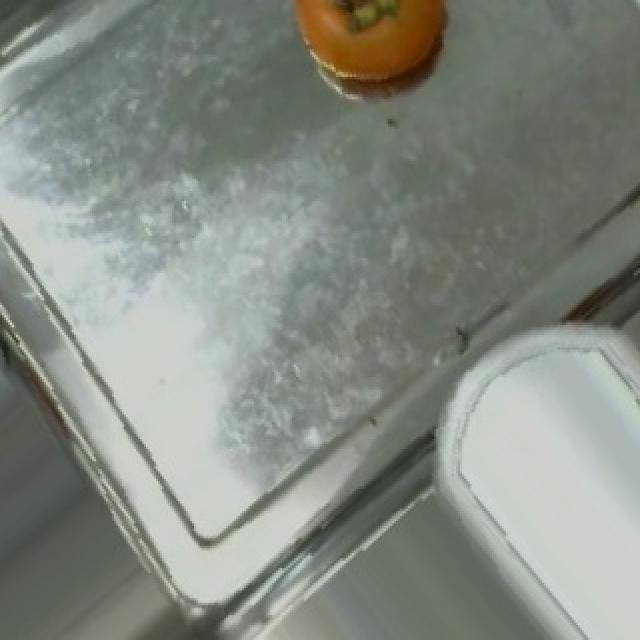Fruit: (264, 0, 478, 119), (592, 248, 640, 449)
